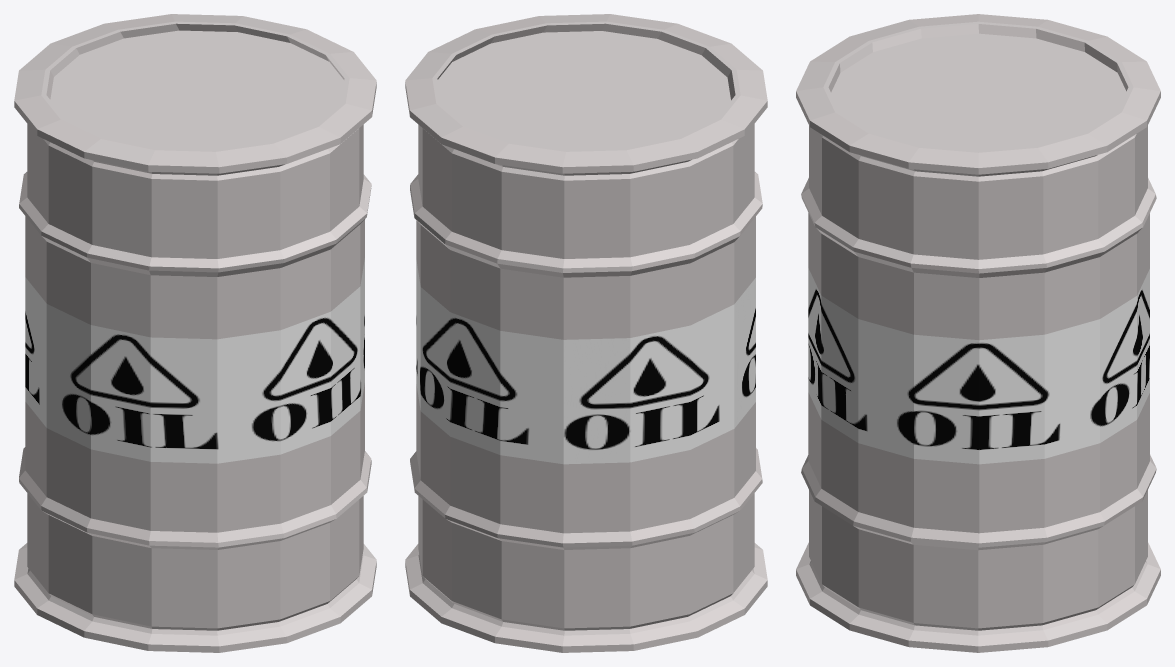
File: Oil_Barrel.fbx
3 renders of one model, left to right at view 1: azimuth 30°, elevation 25°; view 2: azimuth 150°, elevation 25°; view 3: azimuth 270°, elevation 25°, orthographic.
Visible parts, largest first — view 1: Cylinder; view 2: Cylinder; view 3: Cylinder.
Boxes of the visible parts, x1,y1,x2,y2 form: Cylinder: (14, 14, 376, 652); Cylinder: (405, 14, 767, 652); Cylinder: (796, 14, 1160, 652).
Size of the model in its own units: 214 by 316 by 214.
